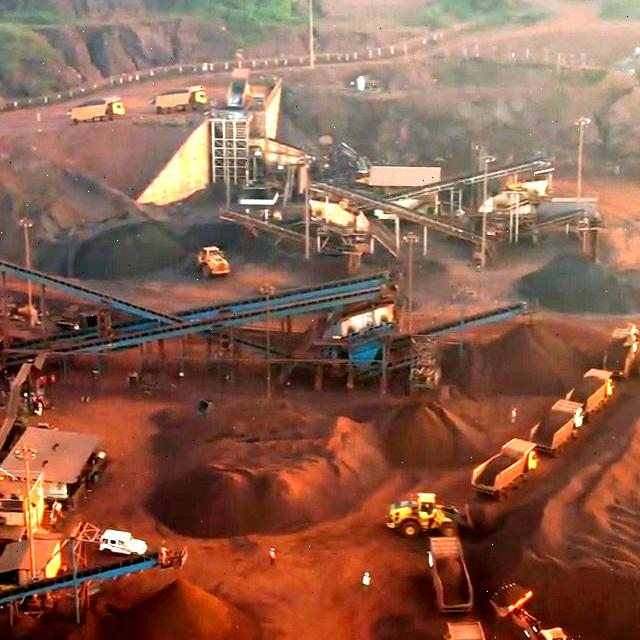Dumper truck: (477, 436, 535, 495), (532, 401, 579, 453), (429, 537, 467, 598), (574, 367, 611, 411), (79, 100, 125, 123), (160, 88, 208, 108), (451, 621, 492, 640)
car: (100, 534, 143, 557)
person: (361, 571, 372, 589), (267, 546, 277, 565)
